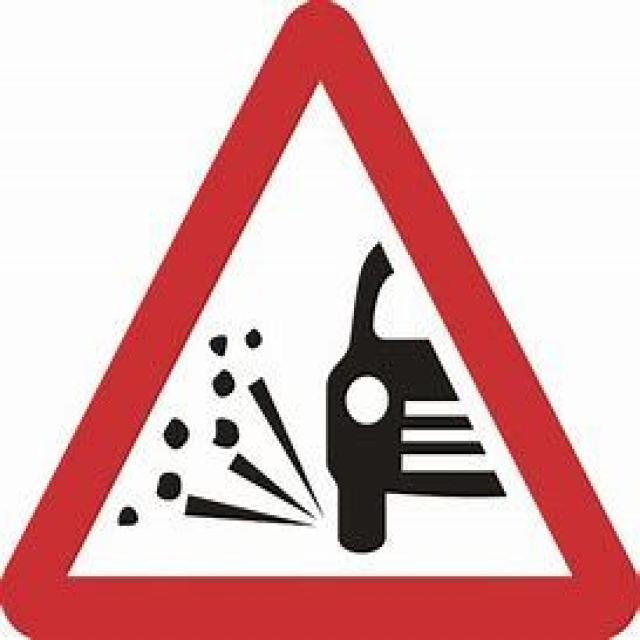road_rough: (2, 0, 637, 637)
